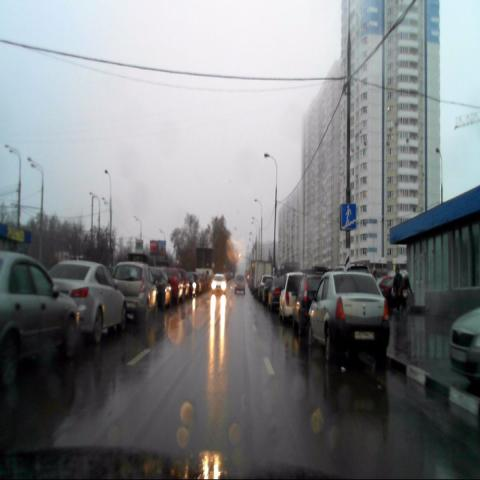6_6: (340, 203, 356, 230)
